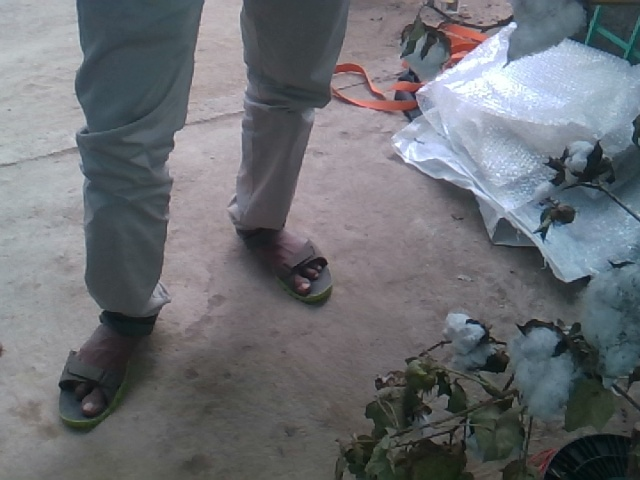cotton: (507, 323, 575, 414), (446, 312, 496, 367)
